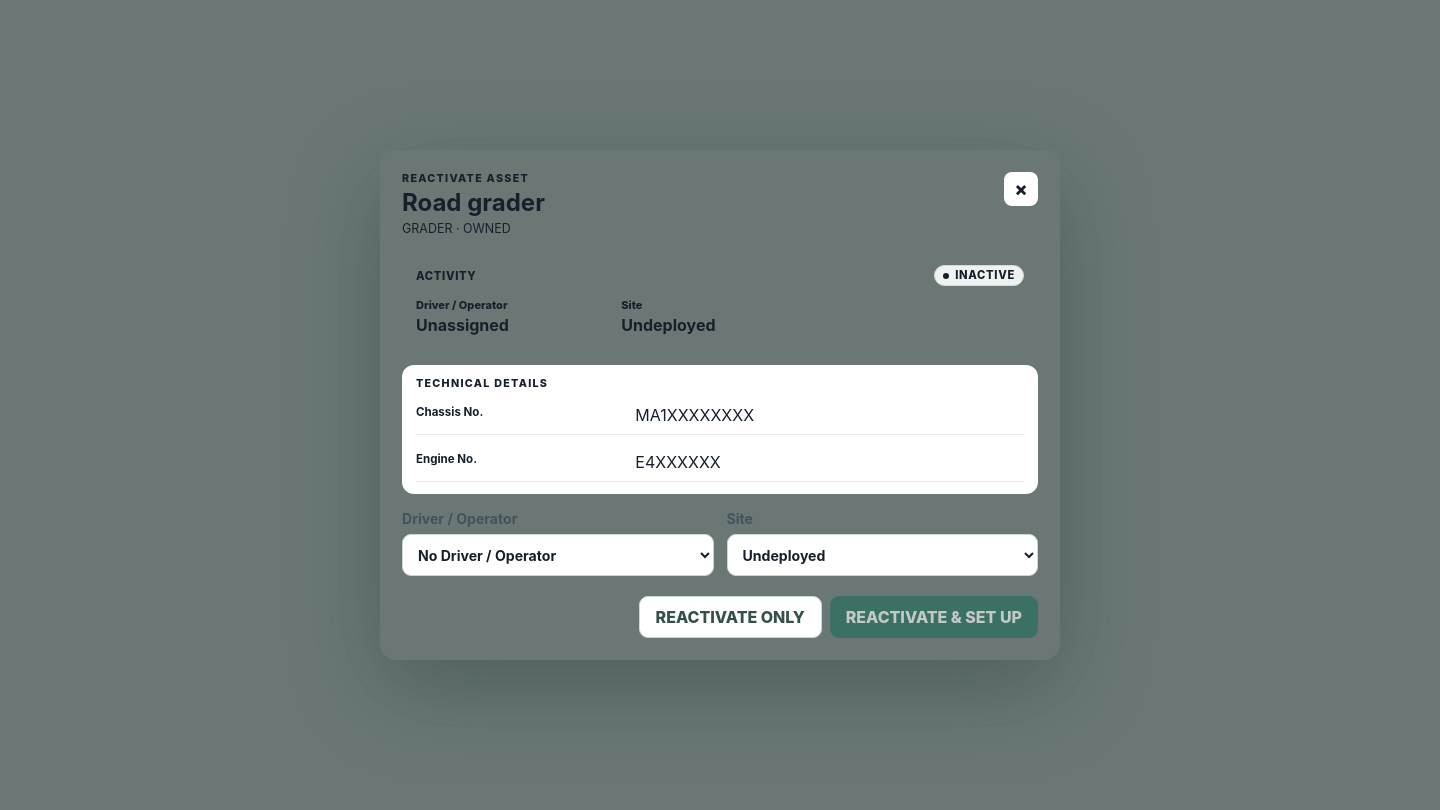
Test: Owner relationship manager › requires a Site before a Driver can be included in asset reactivation
Step 1. Select "Asha Singh · INVITED · Unassigned" in the dropdown labelled "Driver / Operator" → [558, 555], box x1=402 y1=534 x2=714 y2=576
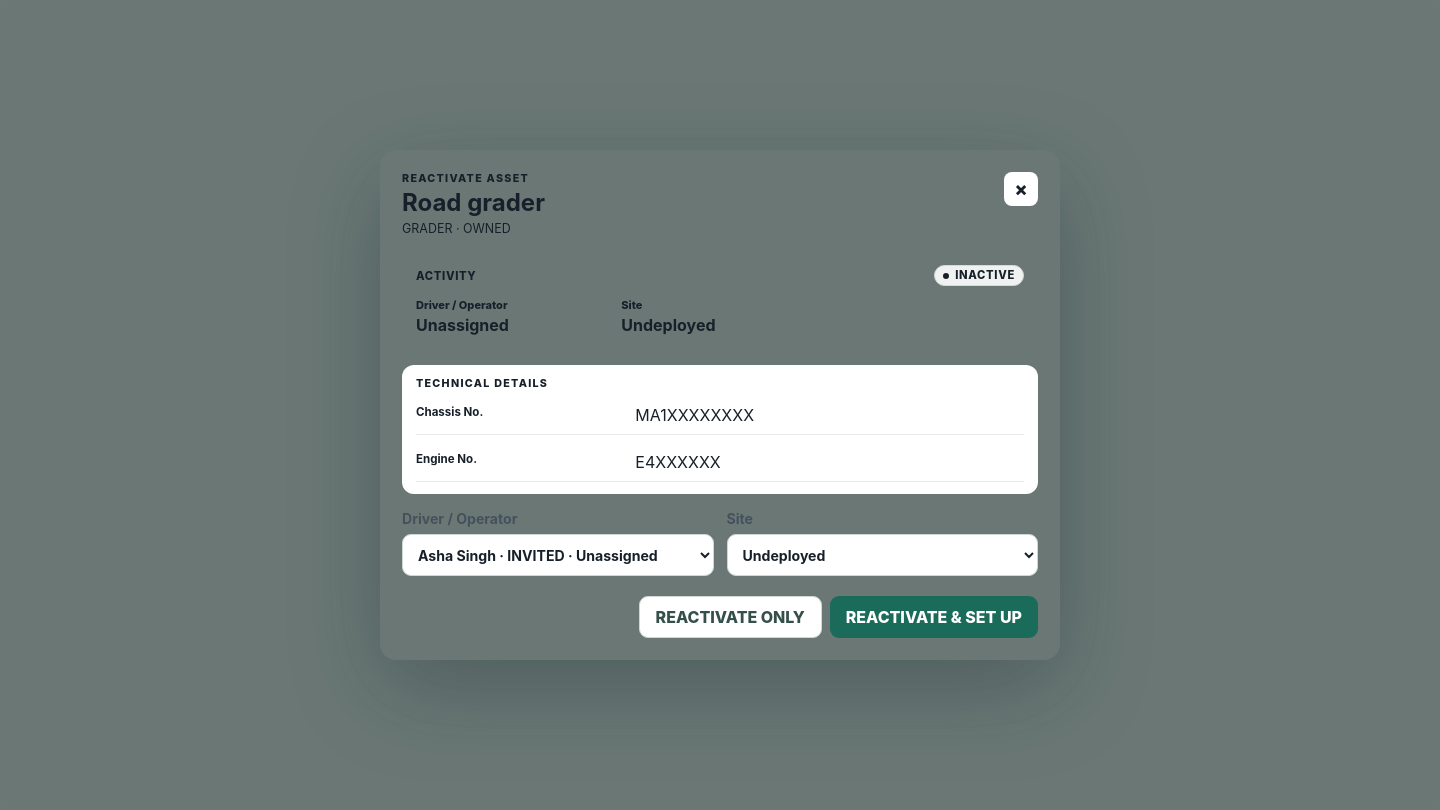
Step 2. Click the button "REACTIVATE & SET UP" → [934, 617], box x1=830 y1=596 x2=1038 y2=638
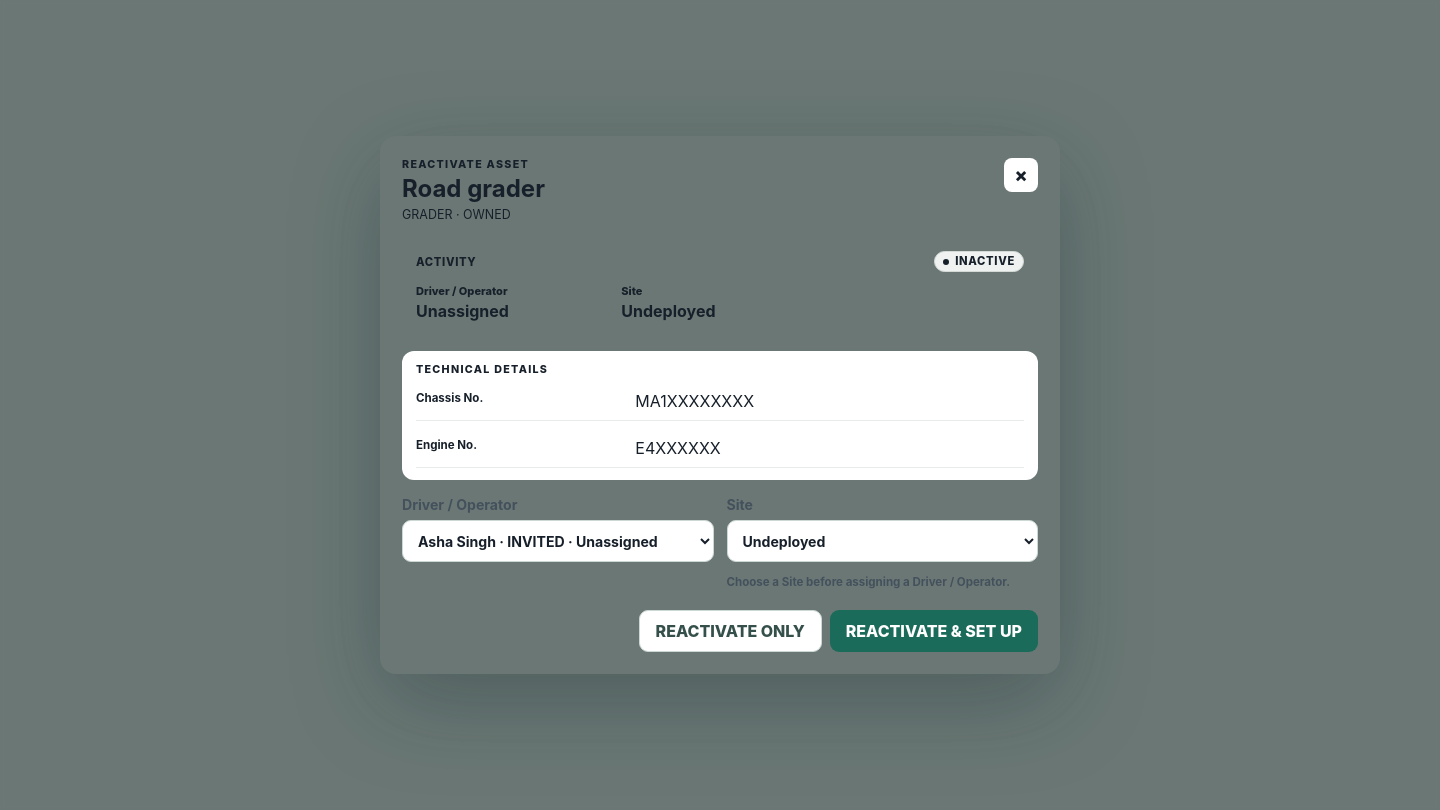
Expected: the message reads "Choose a Site before assigning a Driver / Operator.", x1=726 y1=575 x2=1010 y2=589
